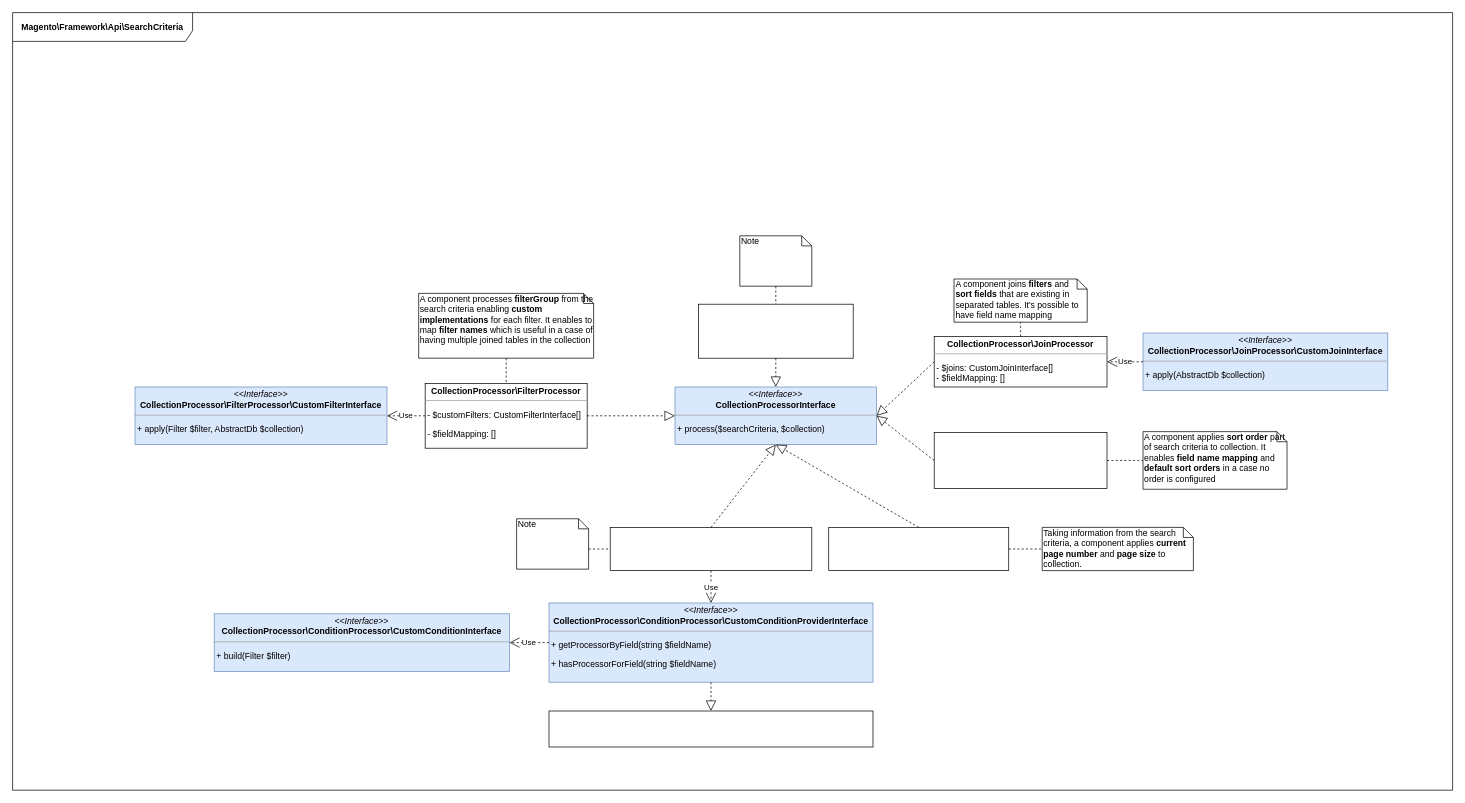
Some shapes in this 1465 by 803 pixel diagram are drawn without their labels. The shapes that lost their labels are listed below. From the top down, each one's centre as x and y in pixels, then its label:
the point at 775,330: CollectionProcessor - $processors: []
the point at 1020,460: CollectionProcessor\SortingProcessor - $fieldMapping: [] - $defaultOrders: []
the point at 710,549: CollectionProcessor\AdvancedFilterProcessor
the point at 918,549: CollectionProcessor\PaginationProcessor
the point at 710,728: CollectionProcessor\ConditionProcessor\ CustomConditionProvider
